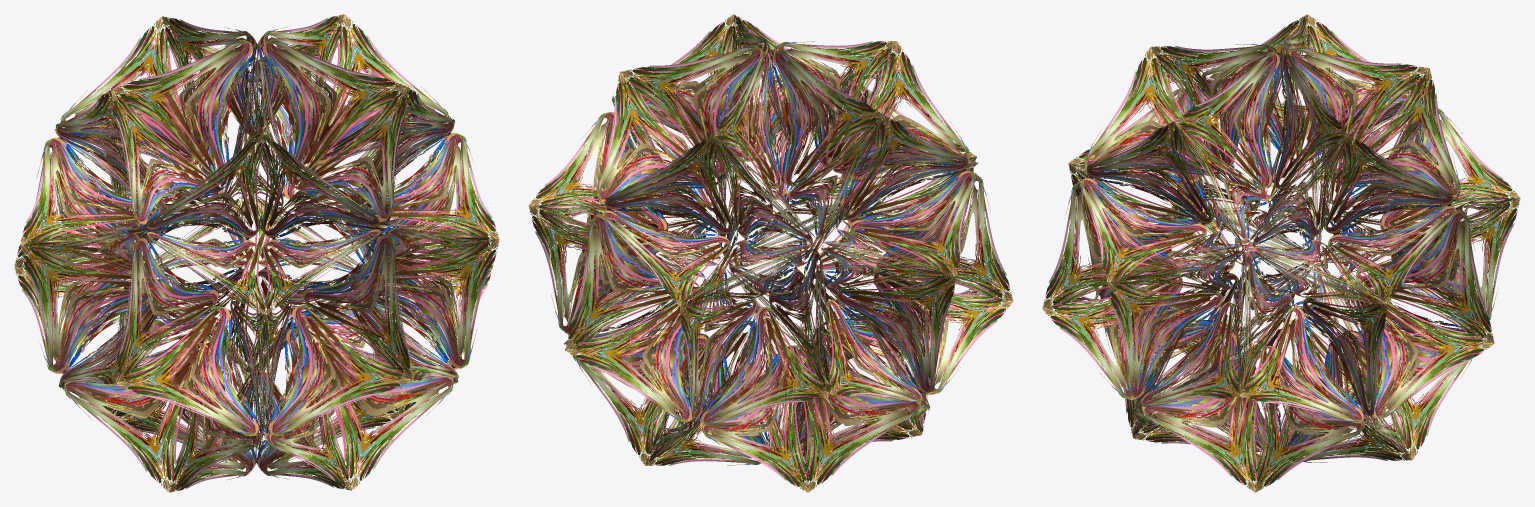
Rendered from Mobius120b_9.obj.
3 renders of one model, left to right at view 1: azimuth 30°, elevation 25°; view 2: azimuth 150°, elevation 25°; view 3: azimuth 270°, elevation 25°, orthographic. The views are drawn at different scales.
Bounding box in the file's own units: 3.09 × 3.02 × 3.11.
Materials: 1 (1 with a texture image).
